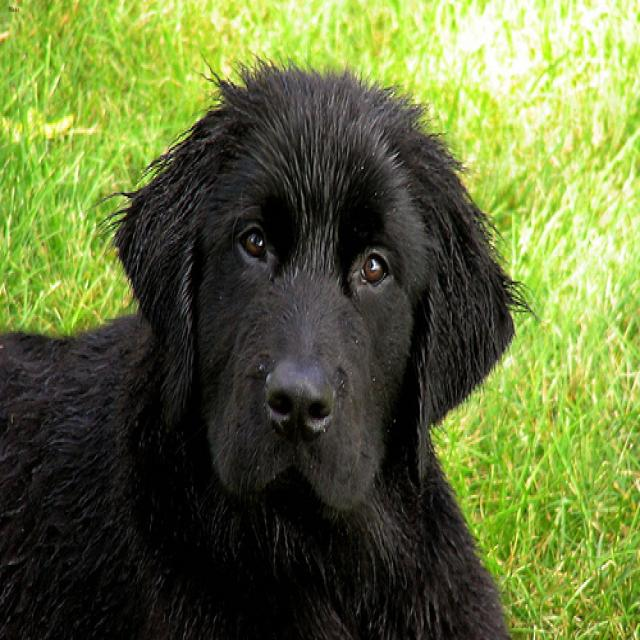dog-newfoundland: (1, 46, 541, 637)
